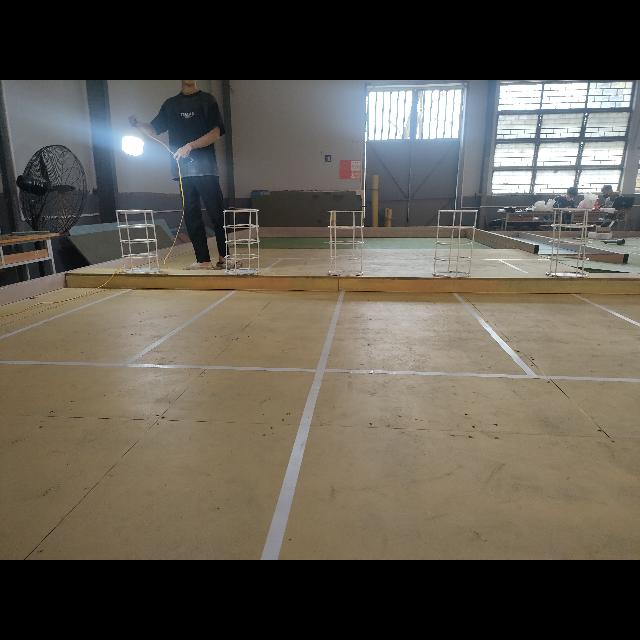S: (547, 206, 591, 282), (114, 209, 164, 275), (220, 207, 264, 279), (432, 208, 476, 280), (326, 208, 368, 280)
